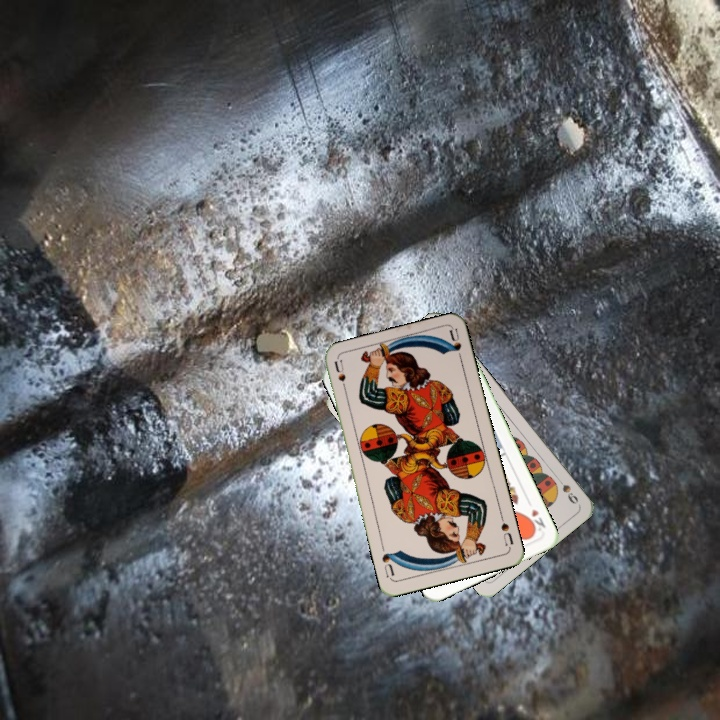HK: (523, 505, 548, 535)
S9: (552, 472, 581, 507)
SU: (330, 356, 350, 397), (496, 510, 516, 550)
